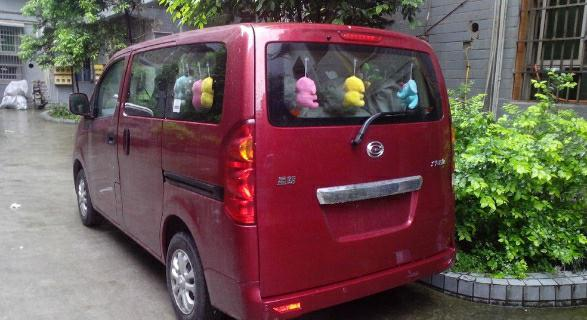哈弗-H1: (62, 17, 463, 320)
